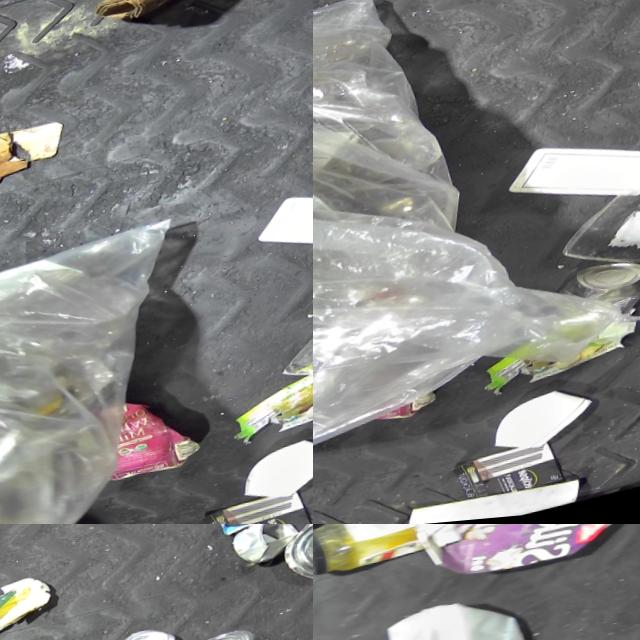can: (559, 261, 640, 341), (232, 524, 306, 578), (280, 310, 313, 398), (277, 524, 313, 604)
milk_jug: (505, 123, 640, 235), (371, 588, 552, 640), (255, 172, 313, 284)
